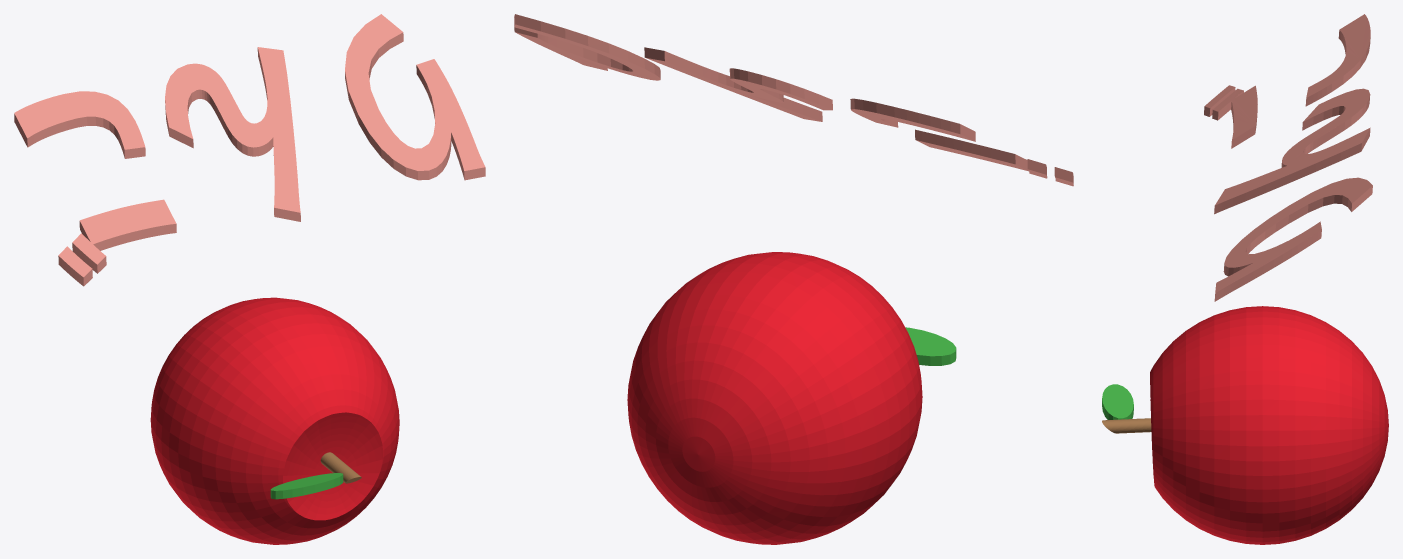
The model's file is tinker.obj.
3 views of the same model, side by side, from view 1: azimuth 30°, elevation 25°; view 2: azimuth 150°, elevation 25°; view 3: azimuth 270°, elevation 25° (orthographic). The views are drawn at different scales.
Parts seen in each view (by area): view 1: group_0_15277357, group_0_15308428, group_0_4634441, group_0_11107152; view 2: group_0_15277357, group_0_15308428, group_0_4634441; view 3: group_0_15277357, group_0_15308428, group_0_4634441, group_0_11107152.
Boxes of the visible parts, x1=… form: group_0_15277357: x1=150, y1=297, x2=399, y2=544; group_0_15308428: x1=14, y1=14, x2=485, y2=286; group_0_4634441: x1=270, y1=473, x2=343, y2=499; group_0_11107152: x1=320, y1=452, x2=361, y2=483; group_0_15277357: x1=627, y1=252, x2=922, y2=544; group_0_15308428: x1=514, y1=14, x2=1073, y2=186; group_0_4634441: x1=905, y1=327, x2=956, y2=365; group_0_15277357: x1=1150, y1=306, x2=1388, y2=544; group_0_15308428: x1=1204, y1=14, x2=1372, y2=301; group_0_4634441: x1=1102, y1=384, x2=1133, y2=419; group_0_11107152: x1=1102, y1=418, x2=1151, y2=433.
Bounding box in the file's own units: 30 × 29.48 × 18.
